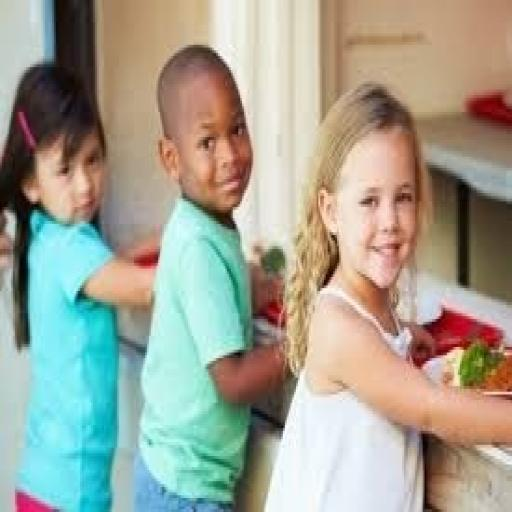eating: (263, 78, 510, 510), (130, 42, 292, 509), (0, 58, 158, 509)
